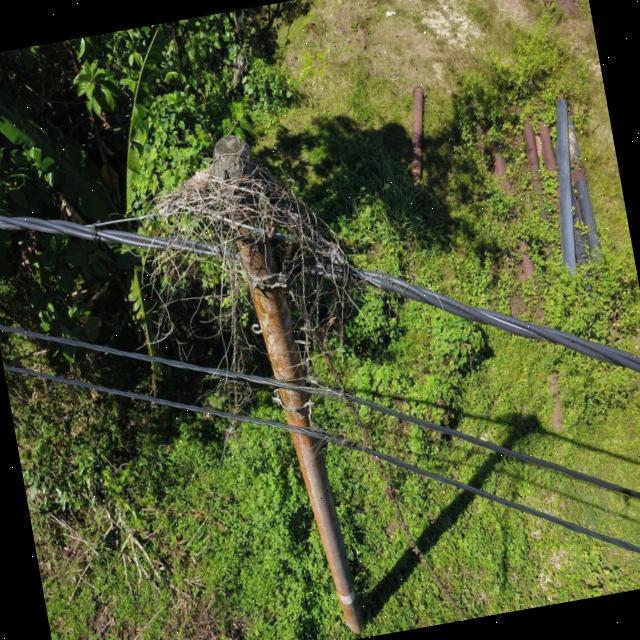critical vegetation: (112, 117, 469, 640)
